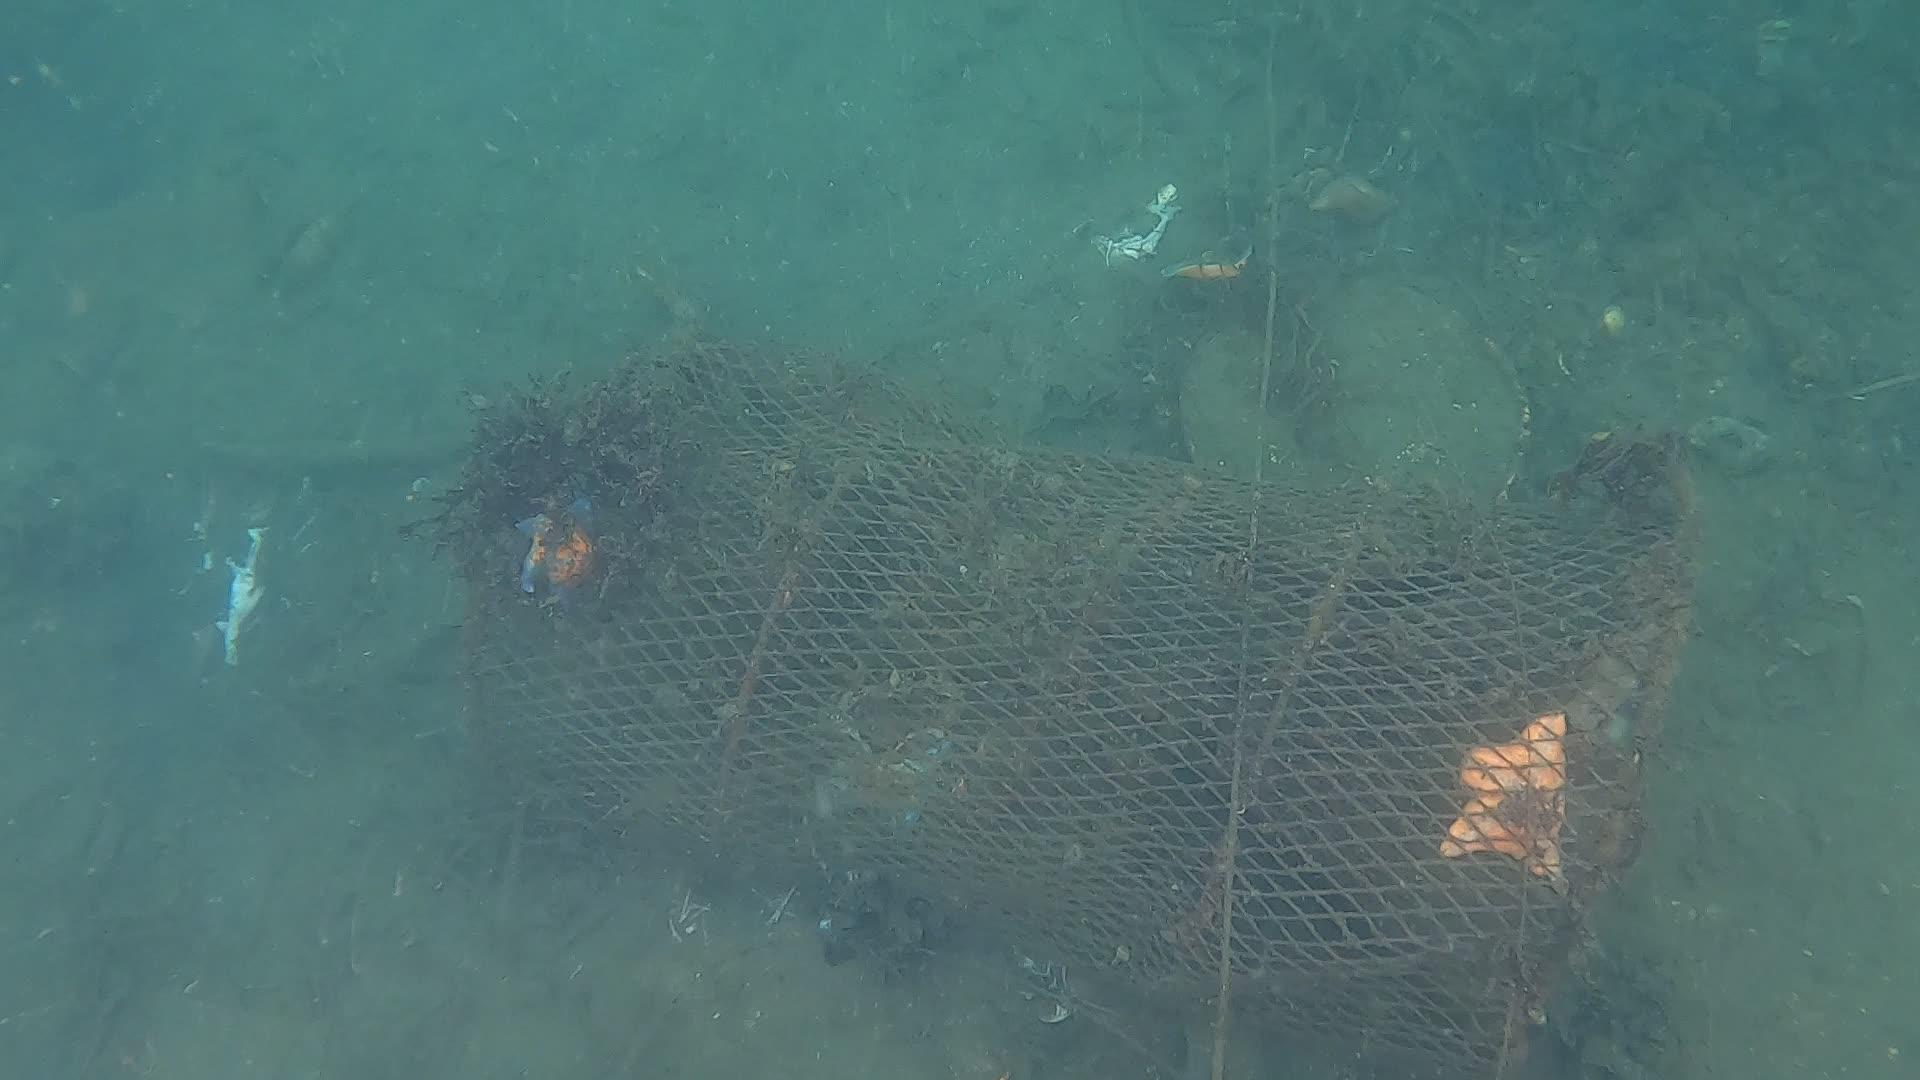spring fish trap: (465, 332, 1696, 1080)
